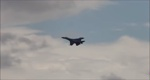maybay_muctieu: (61, 34, 85, 47)
